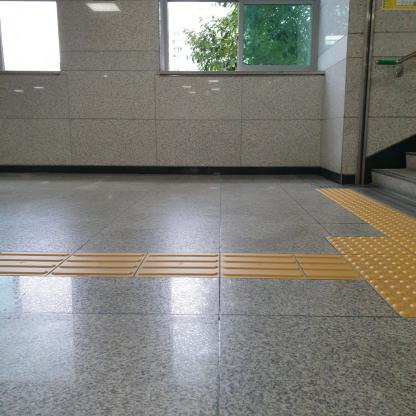go: (46, 252, 147, 277), (220, 253, 308, 279), (133, 253, 221, 278), (294, 254, 366, 279)
stop: (342, 254, 416, 279), (324, 236, 415, 254), (368, 220, 416, 237), (351, 212, 416, 224), (340, 204, 400, 213)
